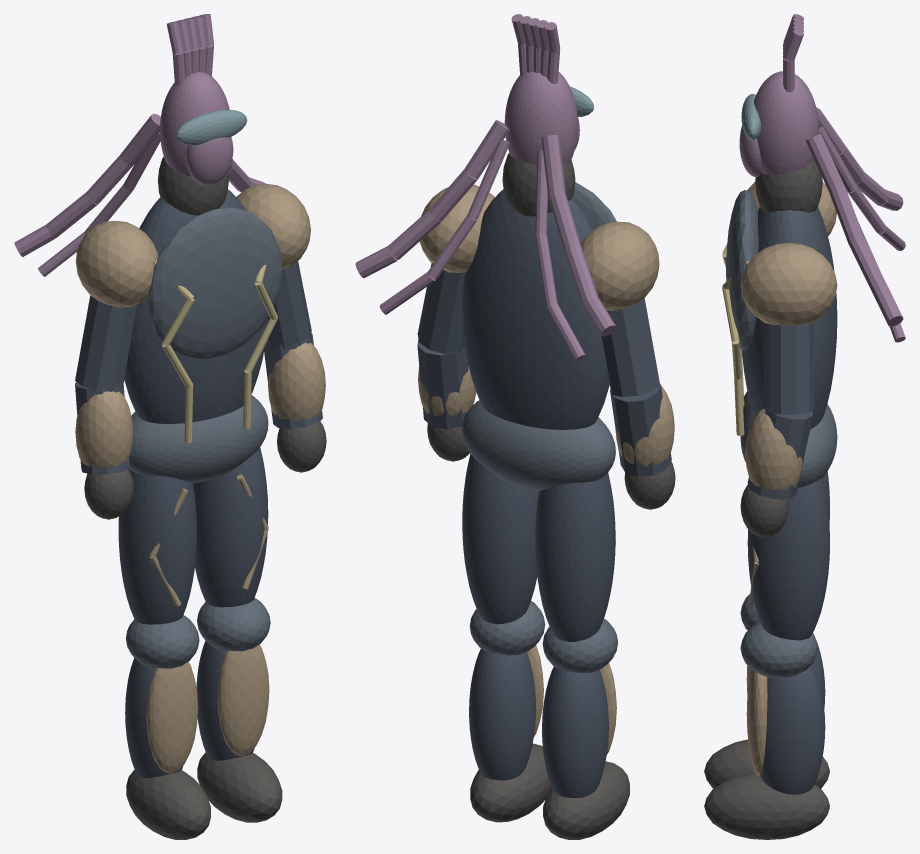
The model's file is mierese_prototype.glb.
The picture shows the model from 3 angles, left to right: view 1: azimuth 30°, elevation 25°; view 2: azimuth 150°, elevation 25°; view 3: azimuth 270°, elevation 25°; orthographic projection. The views are drawn at different scales.
Visible parts, largest first — view 1: chest_armor, torso, upper_leg_-1, upper_leg_1, hips, shoulder_-1, arm_-1, shin_armor_-1, shin_armor_1, boot_1, boot_-1, forearm_armor_-1 (+18 smaller); view 2: torso, upper_leg_-1, upper_leg_1, hips, lower_leg_1, lower_leg_-1, arm_-1, arm_1, shoulder_-1, head, boot_-1, head_tail_-1 (+16 smaller); view 3: upper_leg_1, lower_leg_1, shoulder_1, torso, arm_1, boot_1, head, head_tail_1, chest_armor, forearm_armor_1, knee_1, neck (+12 smaller).
Part boxes in pixels (x1,y1,x2,y2): chest_armor: [148, 207, 282, 359]; torso: [124, 189, 267, 423]; upper_leg_-1: [118, 469, 196, 624]; upper_leg_1: [193, 447, 268, 607]; hips: [129, 395, 268, 483]; shoulder_-1: [75, 220, 158, 307]; arm_-1: [75, 295, 137, 474]; shin_armor_-1: [146, 662, 198, 773]; shin_armor_1: [217, 644, 269, 755]; boot_1: [197, 752, 282, 822]; boot_-1: [126, 770, 210, 839]; forearm_armor_-1: [75, 391, 133, 467]; torso: [462, 189, 609, 429]; upper_leg_-1: [535, 472, 615, 641]; upper_leg_1: [462, 454, 538, 624]; hips: [462, 400, 615, 490]; lower_leg_1: [469, 649, 535, 780]; lower_leg_-1: [542, 666, 608, 798]; arm_-1: [601, 298, 671, 476]; arm_1: [417, 263, 468, 429]; shoulder_-1: [580, 221, 659, 310]; head: [504, 71, 578, 163]; boot_-1: [543, 761, 629, 839]; head_tail_-1: [541, 135, 616, 336]; upper_leg_1: [747, 478, 829, 640]; lower_leg_1: [760, 665, 825, 794]; shoulder_1: [740, 243, 837, 325]; torso: [742, 207, 837, 429]; arm_1: [747, 322, 813, 499]; boot_1: [704, 773, 829, 839]; head: [754, 71, 818, 174]; head_tail_1: [805, 133, 903, 326]; chest_armor: [726, 190, 758, 351]; forearm_armor_1: [745, 408, 802, 500]; knee_1: [740, 622, 817, 678]; neck: [755, 159, 822, 212].
Size of the model in its own units: 0.602 by 1.81 by 0.4163.
